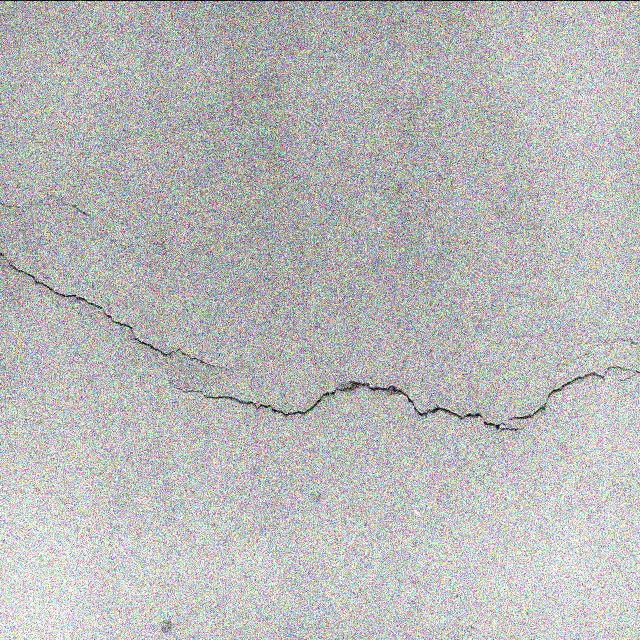SurfaceCrack: (1, 236, 640, 461)
